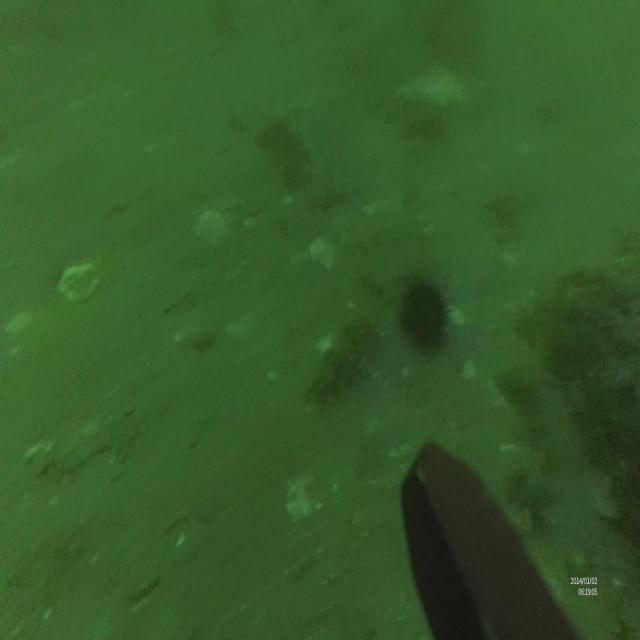echinus: (399, 276, 455, 356)
